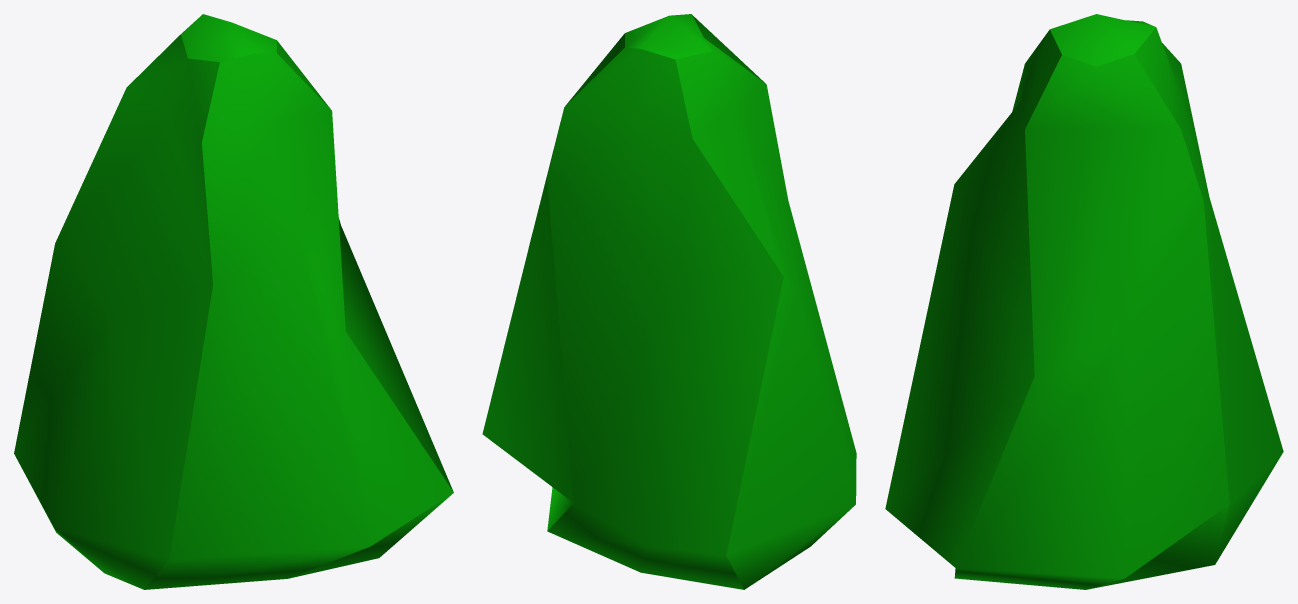
Rendered from arbusto_1.fbx.
The picture shows the model from 3 angles, left to right: view 1: azimuth 30°, elevation 25°; view 2: azimuth 150°, elevation 25°; view 3: azimuth 270°, elevation 25°; orthographic projection. The views are drawn at different scales.
Visible parts, largest first — view 1: pCube1; view 2: pCube1; view 3: pCube1.
Boxes of the visible parts, bbox=[...] form: pCube1: bbox=[14, 14, 453, 589]; pCube1: bbox=[482, 14, 856, 589]; pCube1: bbox=[885, 14, 1283, 589].
Bounding box in the file's own units: 2.28 × 3.13 × 2.11.
